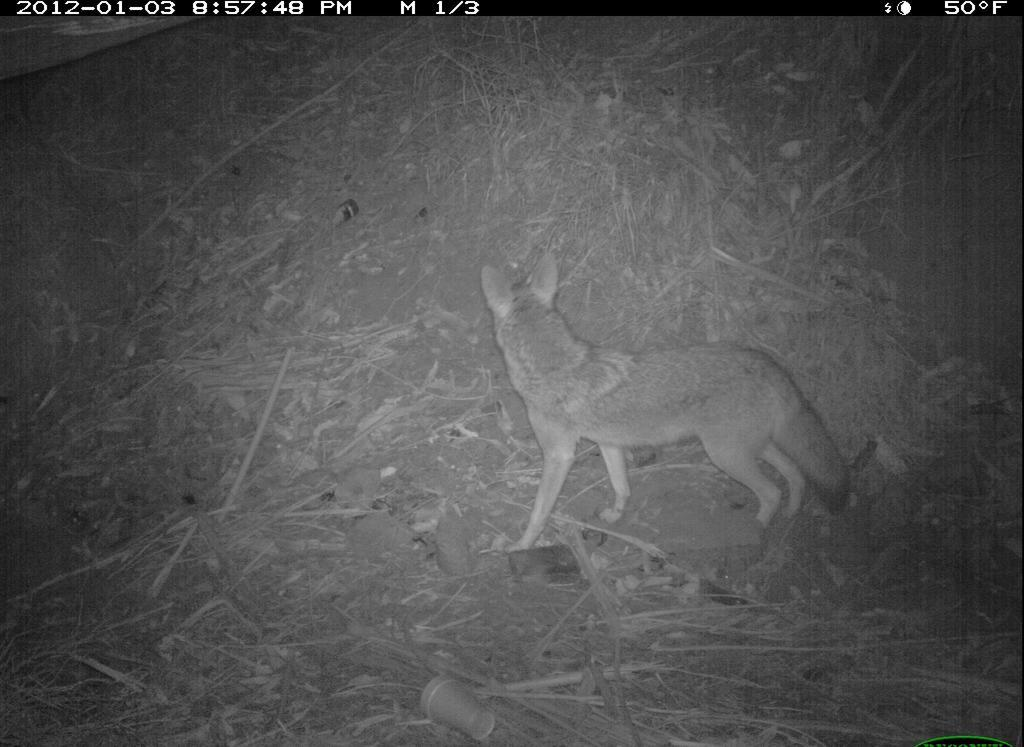coyote: (470, 239, 865, 570)
